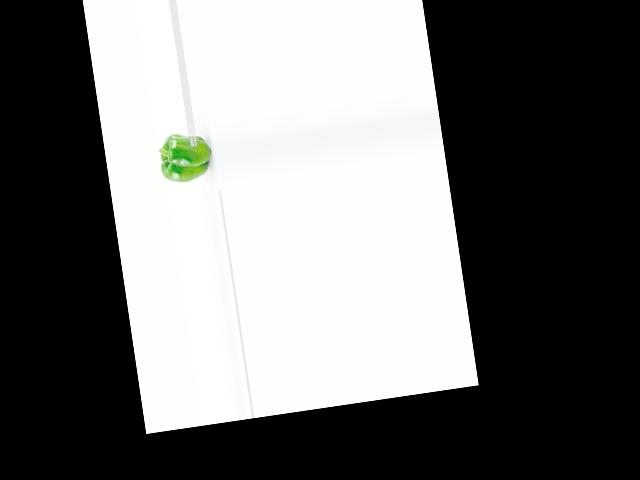bell_pepper: (154, 129, 217, 187)
